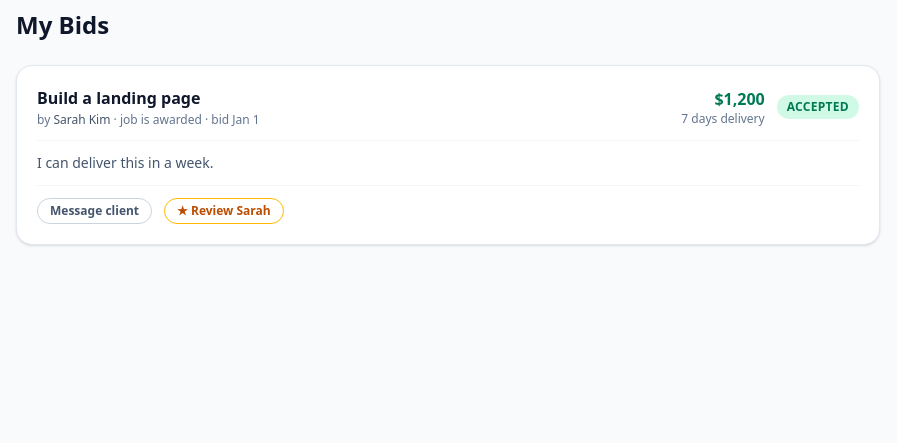
MyBids › renders the freelancer → client review form on an accepted bid
The width and height of the screenshot is (897, 443).
What coordinates should you click on to do the following:
click the button "★ Review Sarah"
I would click on:
 (224, 211)
Its box is [164,198,284,224].
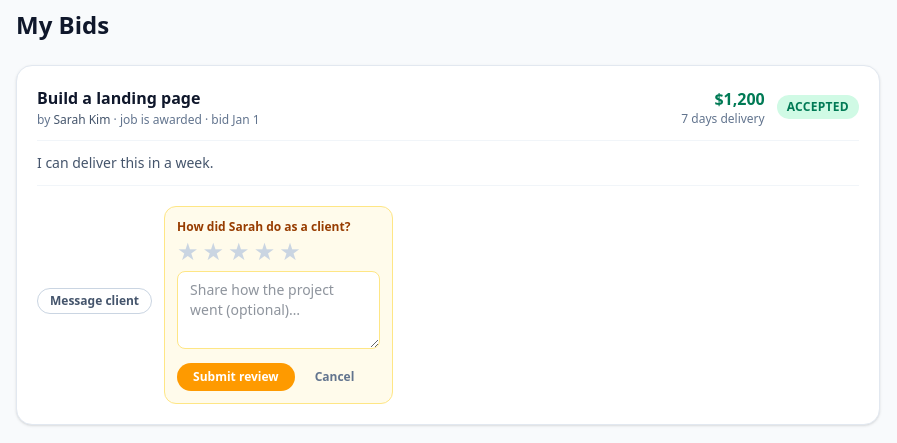
Check: the text "How did Sarah do as a client?" is shown, box [177,219,380,235]
